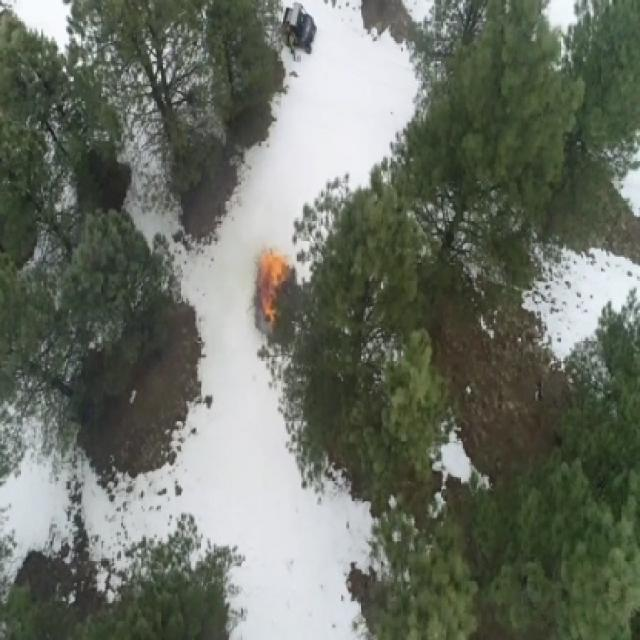Fire: (254, 246, 294, 326)
